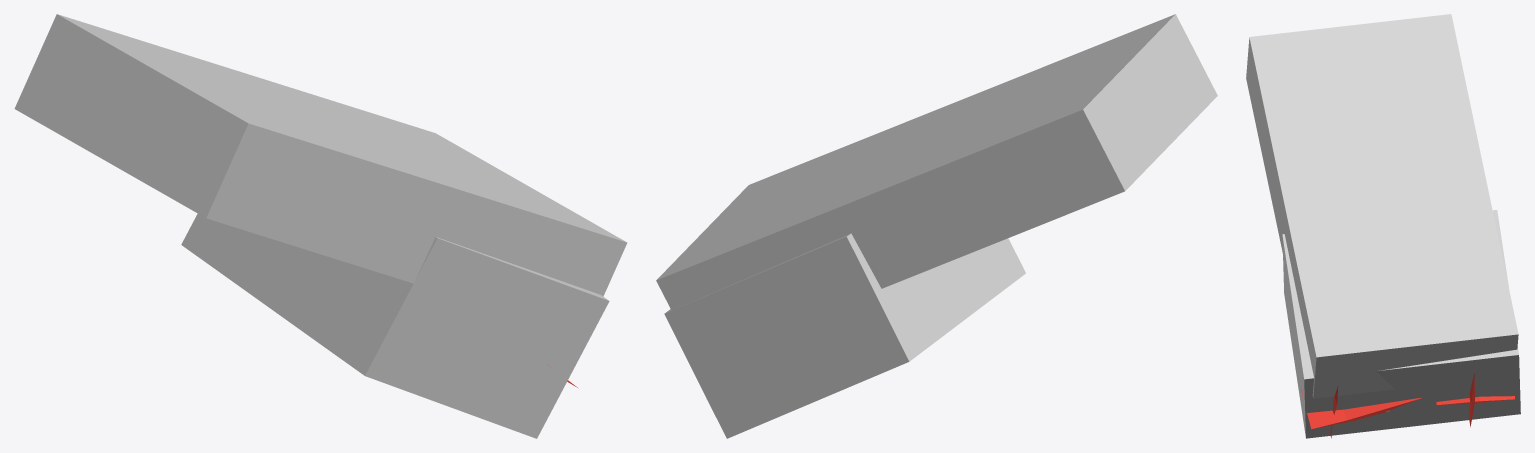
3 views of the same model, side by side, from view 1: azimuth 30°, elevation 25°; view 2: azimuth 150°, elevation 25°; view 3: azimuth 270°, elevation 25° (orthographic). The views are drawn at different scales.
Parts seen in each view (by area): view 1: mesh_1405427307, mesh_1315973607; view 2: mesh_1405427307, mesh_1315973607; view 3: mesh_1405427307, mesh_1315973607, group_1670538936, group_1064689290.
Part boxes in pixels (x1,y1,x2,y2): mesh_1405427307: (14, 14, 627, 296); mesh_1315973607: (181, 214, 609, 438); mesh_1405427307: (656, 14, 1217, 310); mesh_1315973607: (664, 233, 1025, 438); mesh_1405427307: (1246, 14, 1518, 398); mesh_1315973607: (1282, 210, 1520, 438); group_1670538936: (1301, 389, 1421, 429); group_1064689290: (1436, 396, 1514, 405).
Size of the model in its own units: 45.67 by 37.02 by 30.74.
